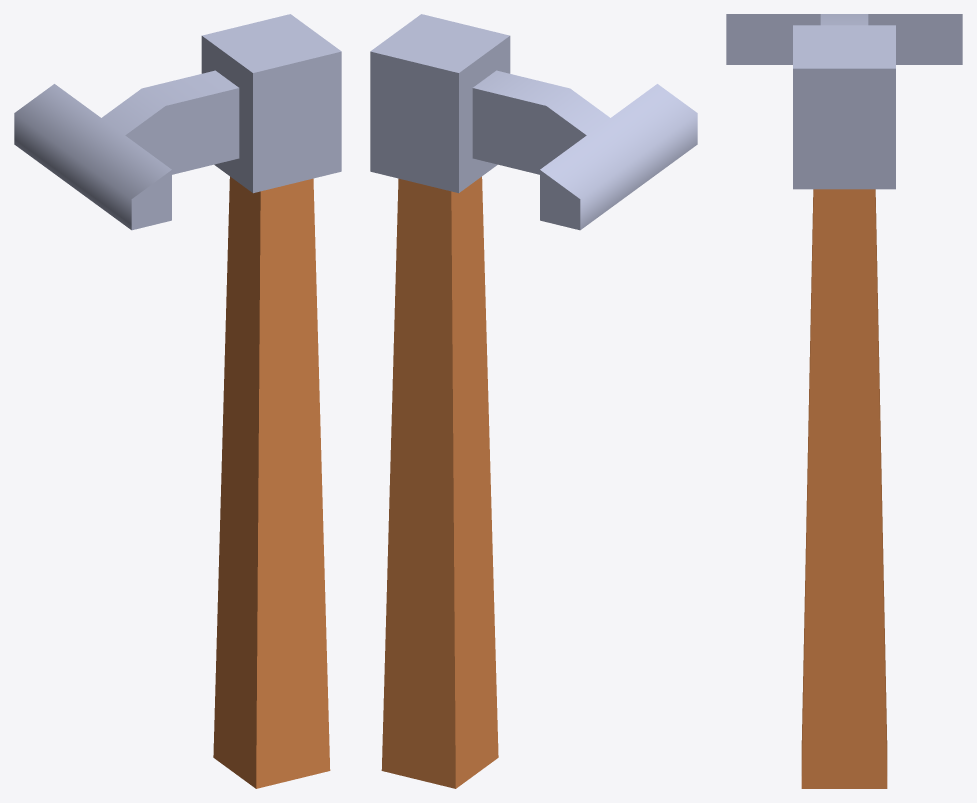
The model's file is toolHoe.fbx.
3 renders of one model, left to right at view 1: azimuth 30°, elevation 25°; view 2: azimuth 150°, elevation 25°; view 3: azimuth 270°, elevation 25°, orthographic.
Parts seen in each view (by area): view 1: toolHoe; view 2: toolHoe; view 3: toolHoe.
Boxes of the visible parts, <box> form: toolHoe: <box>14,14,341,788</box>; toolHoe: <box>370,14,697,788</box>; toolHoe: <box>726,14,962,788</box>.
Bounding box in the file's own units: 0.8477 × 2.4 × 0.7093.
